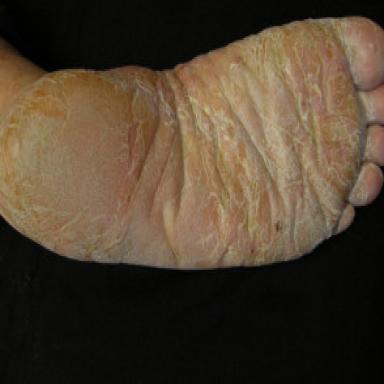eczema: (96, 22, 376, 266), (0, 69, 133, 262)
